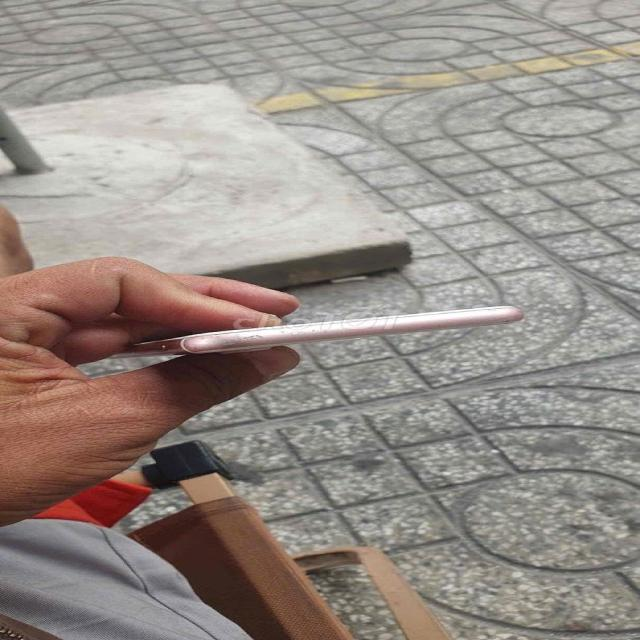gen_7_8: (114, 303, 532, 353)
